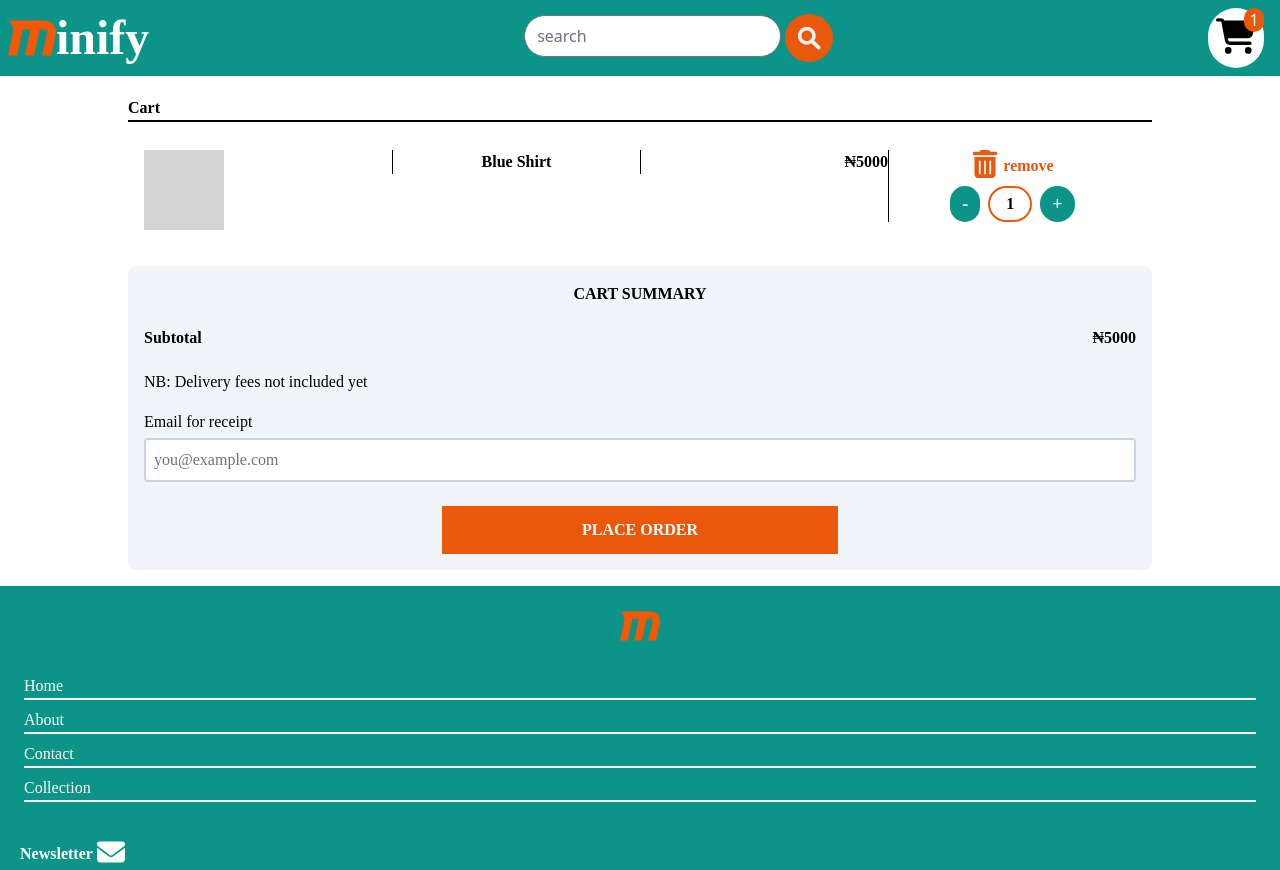
Test: Cart › rejects an invalid email without starting payment
The width and height of the screenshot is (1280, 870).
Expected: the text "Blue Shirt" is shown, [482, 153, 551, 170]
Type "not-an-email" into the field labelled "Email for receipt".
click(640, 460); type("not-an-email")  # box [144, 438, 1136, 482]
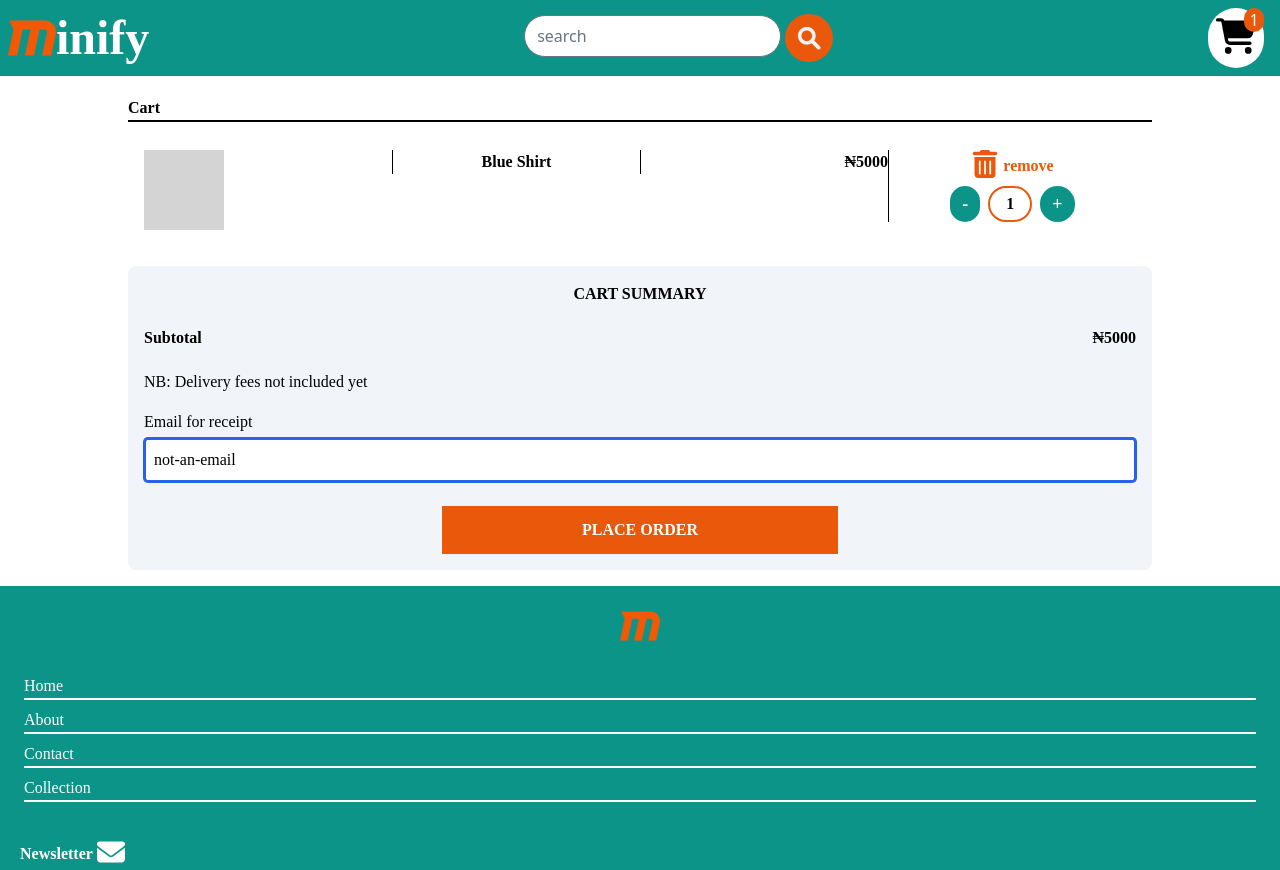
Click the button "PLACE ORDER".
click(640, 530)  # box [442, 506, 838, 554]
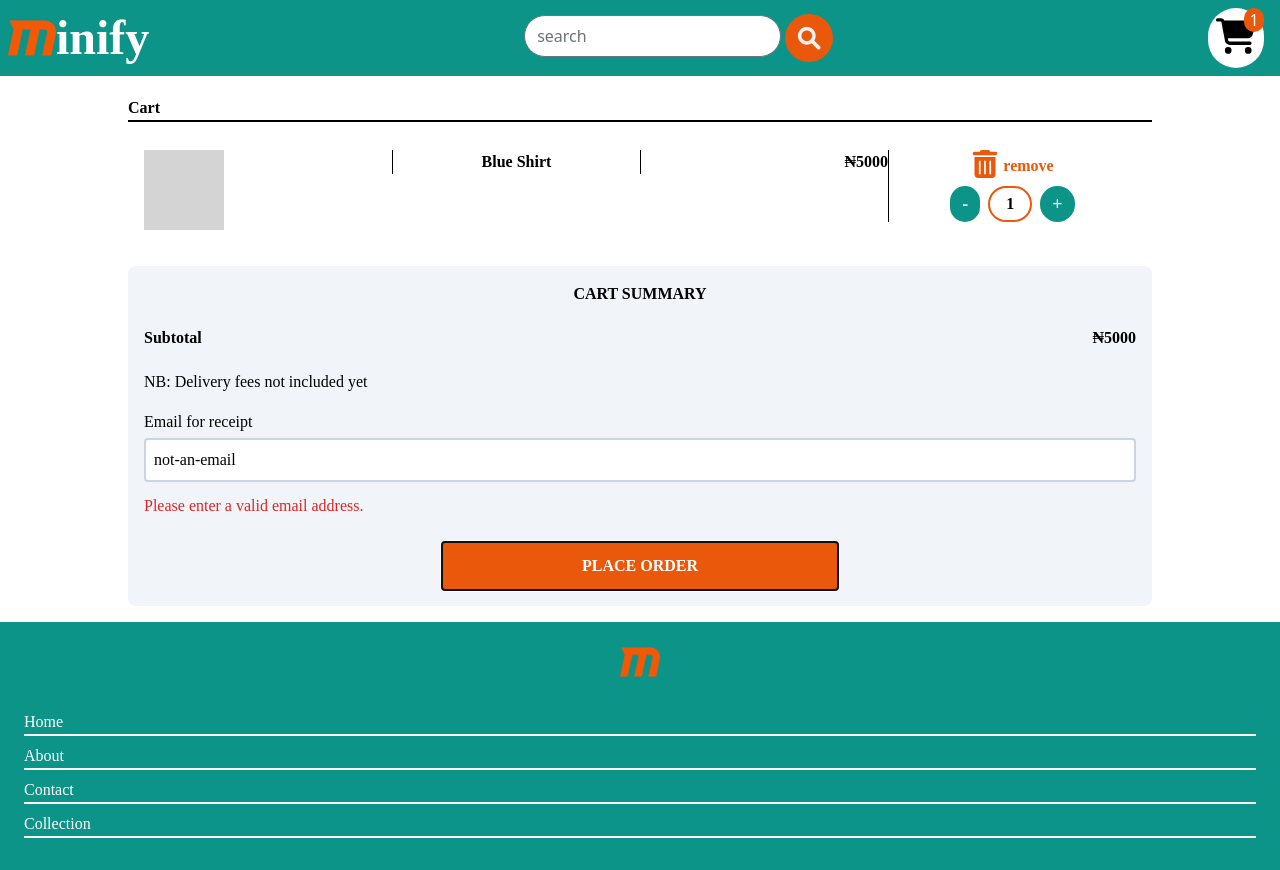
Now the text "Please enter a valid email address." is shown, box [144, 497, 364, 514]
